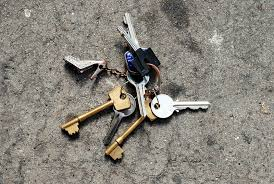kicharina: (58, 86, 133, 140), (115, 9, 163, 75), (150, 92, 218, 119)
